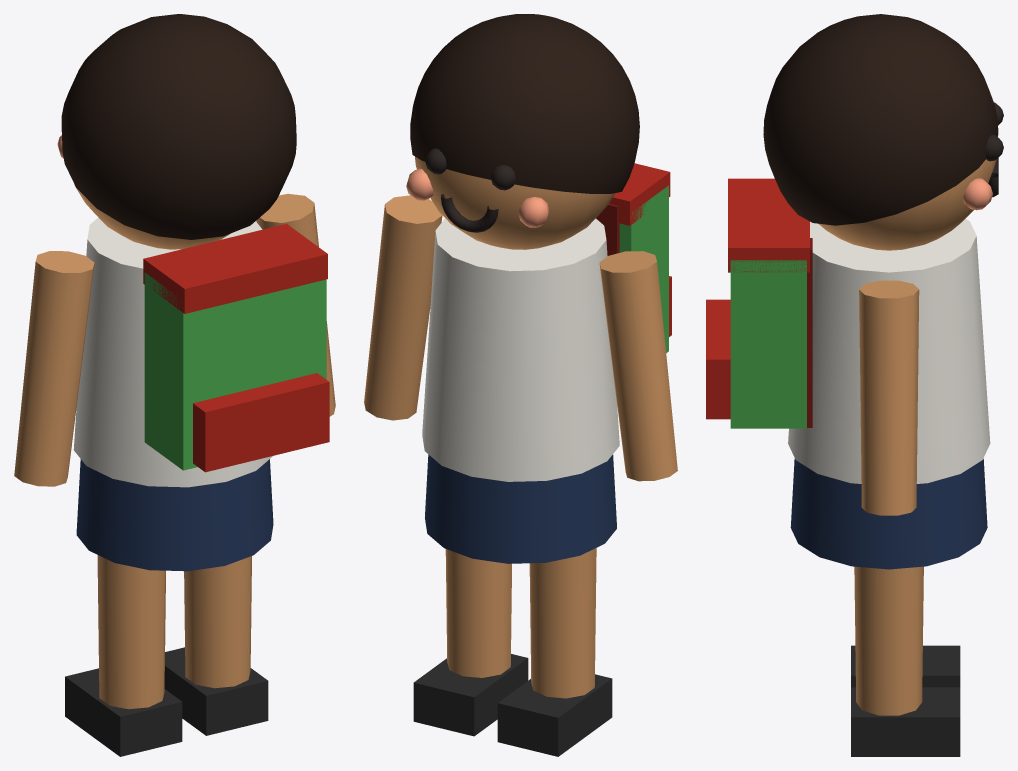
Rendered from visitor_5.fbx.
3 views of the same model, side by side, from view 1: azimuth 30°, elevation 25°; view 2: azimuth 150°, elevation 25°; view 3: azimuth 270°, elevation 25° (orthographic). The views are drawn at different scales.
Parts seen in each view (by area): view 1: M__visitor_5-body, M__visitor_5-armL, M__visitor_5-shinL, M__visitor_5-shinR, M__visitor_5-legL, M__visitor_5-armR, M__visitor_5-legR; view 2: M__visitor_5-body, M__visitor_5-armL, M__visitor_5-armR, M__visitor_5-shinL, M__visitor_5-shinR, M__visitor_5-legL, M__visitor_5-legR; view 3: M__visitor_5-body, M__visitor_5-armR, M__visitor_5-shinR, M__visitor_5-legR, M__visitor_5-shinL.
Part boxes in pixels (x1,y1,x2,y2): M__visitor_5-body: [57, 14, 329, 571]; M__visitor_5-armL: [14, 251, 94, 486]; M__visitor_5-shinL: [65, 603, 182, 756]; M__visitor_5-shinR: [164, 582, 268, 735]; M__visitor_5-legL: [97, 555, 165, 619]; M__visitor_5-armR: [256, 193, 335, 416]; M__visitor_5-legR: [184, 556, 251, 598]; M__visitor_5-body: [406, 14, 671, 563]; M__visitor_5-armL: [599, 251, 677, 481]; M__visitor_5-armR: [364, 195, 442, 420]; M__visitor_5-shinL: [497, 594, 612, 756]; M__visitor_5-shinR: [413, 574, 528, 736]; M__visitor_5-legL: [529, 548, 596, 610]; M__visitor_5-legR: [445, 549, 511, 590]; M__visitor_5-body: [706, 14, 1003, 569]; M__visitor_5-armR: [859, 280, 919, 515]; M__visitor_5-shinR: [851, 613, 960, 756]; M__visitor_5-legR: [854, 566, 923, 626]; M__visitor_5-shinL: [851, 645, 960, 687].
Size of the model in its own units: 0.6547 by 1.4 by 0.545.
